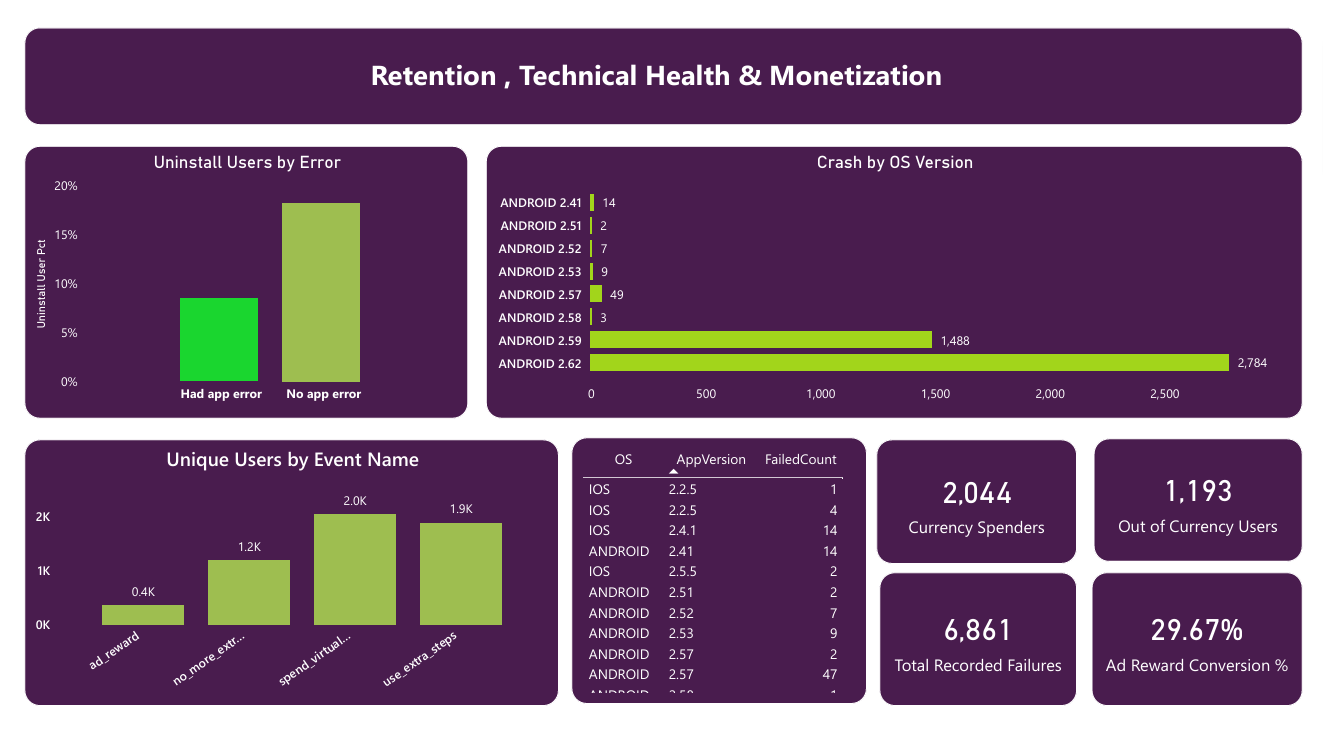

Layout of this report page (visuals, bound fields, positions):
{"tool":"powerbi","page":{"name":"Retention & Monetization","canvas":[1280,720],"ordinal":2},"visuals":[{"type":"shape","box":[20,21.2,1241.2,95],"z":0},{"type":"clusteredColumnChart","title":"Uninstall Users by Error","fields":{"Category":["AppErrorStatus.ErrorGroup"],"Y":["Sum(AppErrorStatus.UninstallUserPct)"]},"box":[20,136.2,431.2,265],"z":1000},{"type":"textbox","box":[350.5,43,582.3,50.9],"z":2000},{"type":"clusteredBarChart","title":" Crash by OS Version","fields":{"Category":["AppVersionFailures.OSVersion"],"Y":["Sum(AppVersionFailures.FailedCount)"]},"box":[467.5,136.2,793.8,265],"z":3000},{"type":"card","fields":{"Values":["_Measures.Ad Reward Conversion %"]},"box":[1056,549.5,204.6,130],"z":4000},{"type":"card","fields":{"Values":["_Measures.Currency Spenders"]},"box":[846.9,420.6,195.6,121],"z":5000},{"type":"card","fields":{"Values":["_Measures.Out of Currency Users"]},"box":[1057.5,420,203.8,120],"z":6000},{"type":"card","fields":{"Values":["_Measures.Total Recorded Failures"]},"box":[850.3,549.5,192.2,130],"z":7000},{"type":"clusteredColumnChart","title":"Unique Users by Event Name","fields":{"Category":["PaymentEvents.EventName"],"Y":["Sum(PaymentEvents.UniqueUsers)"]},"box":[20.4,420.6,519,258.9],"z":8000},{"type":"tableEx","fields":{"Values":["AppVersionFailures.OS","AppVersionFailures.AppVersion","AppVersionFailures.FailedCount"]},"box":[550.6,419.5,287.2,258.9],"z":9000},{"type":"shape","box":[816.3,428.5,13.6,242],"z":9001},{"type":"shape","box":[1240,172.5,12.5,197.5],"z":9002}]}

Visuals, with their boxes in screenshot pixels (x1, y1, x2, y2), scaled from the page's 1280x720 canvas onto the 1327x742 screenshot:
shape: left=21, top=22, right=1308, bottom=120
"Uninstall Users by Error" clusteredColumnChart: left=21, top=140, right=468, bottom=413
textbox: left=363, top=44, right=967, bottom=97
" Crash by OS Version" clusteredBarChart: left=485, top=140, right=1308, bottom=413
card - _Measures.Ad Reward Conversion %: left=1095, top=566, right=1307, bottom=700
card - _Measures.Currency Spenders: left=878, top=433, right=1081, bottom=558
card - _Measures.Out of Currency Users: left=1096, top=433, right=1308, bottom=556
card - _Measures.Total Recorded Failures: left=882, top=566, right=1081, bottom=700
"Unique Users by Event Name" clusteredColumnChart: left=21, top=433, right=559, bottom=700
tableEx - AppVersionFailures.OS x AppVersionFailures.AppVersion: left=571, top=432, right=869, bottom=699
shape: left=846, top=442, right=860, bottom=691
shape: left=1286, top=178, right=1298, bottom=381
